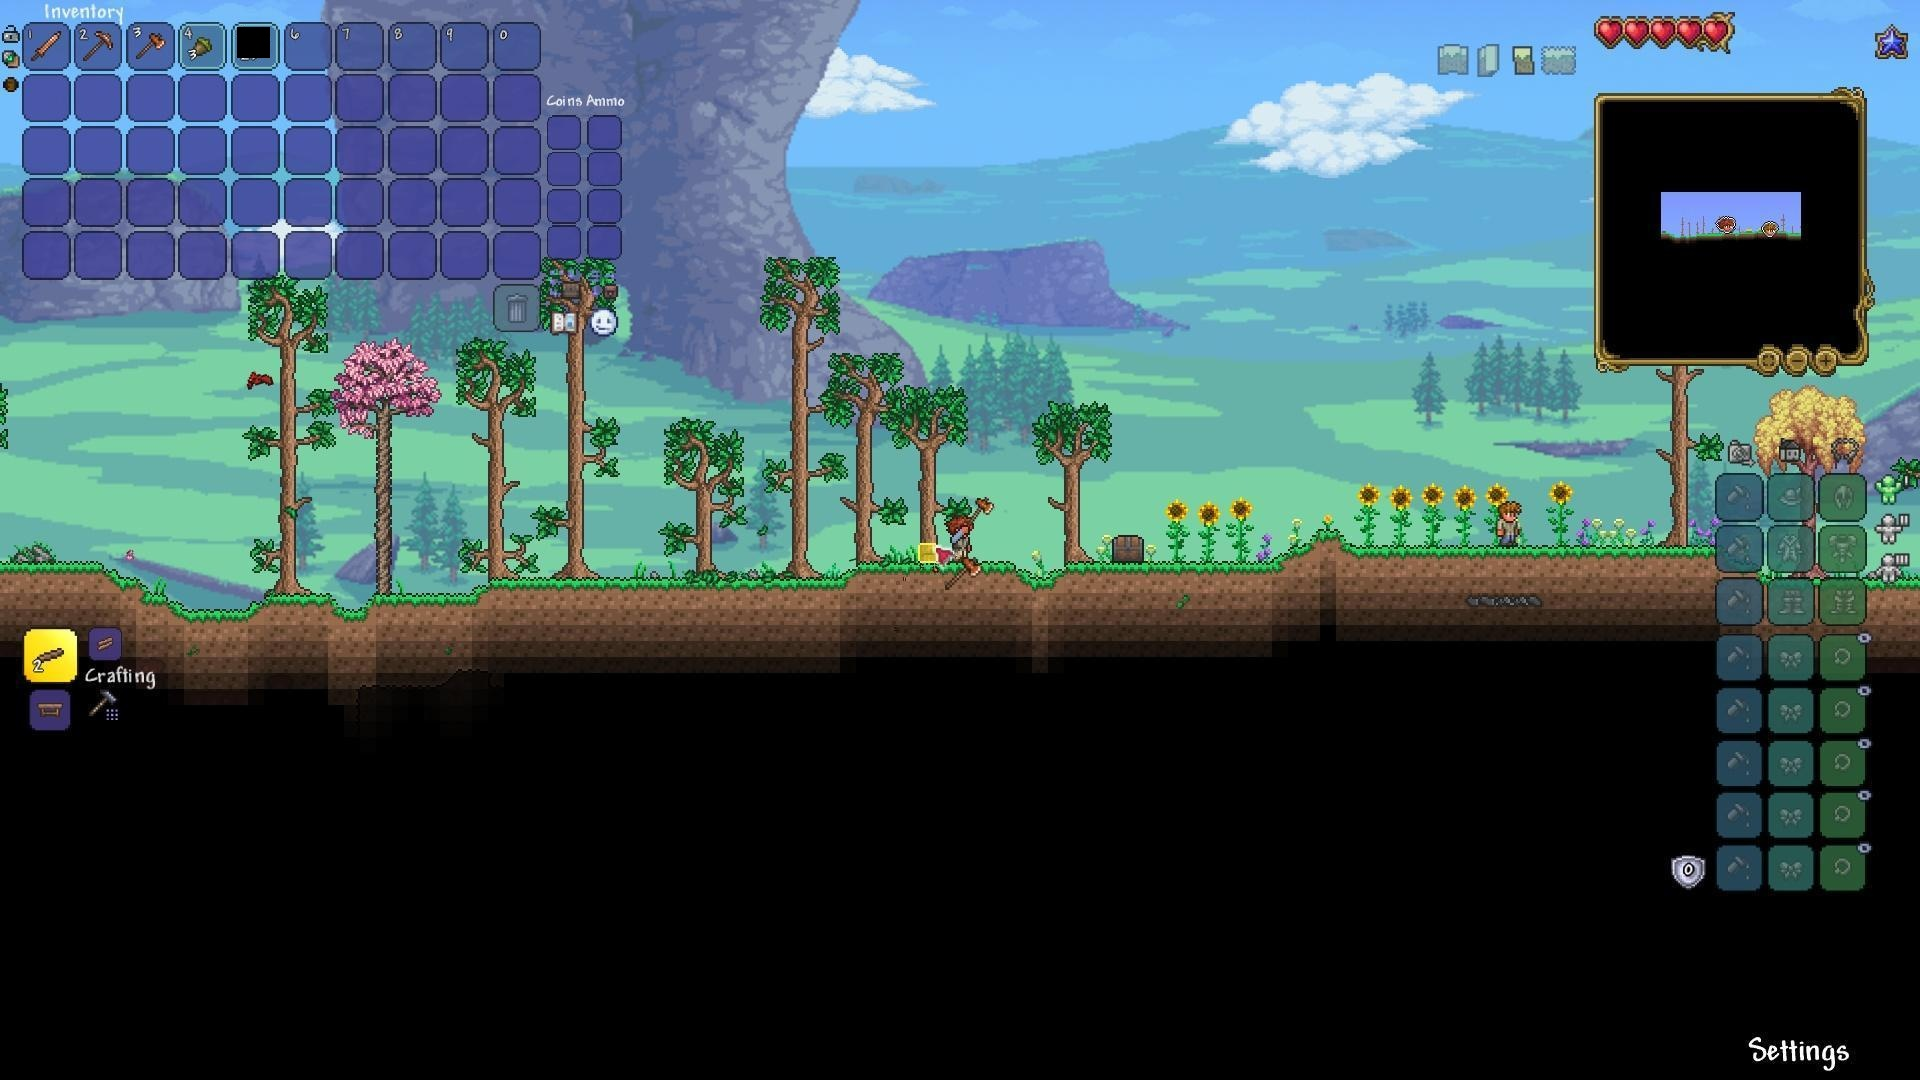wood: (91, 632, 117, 655)
workbench: (32, 699, 65, 723)
